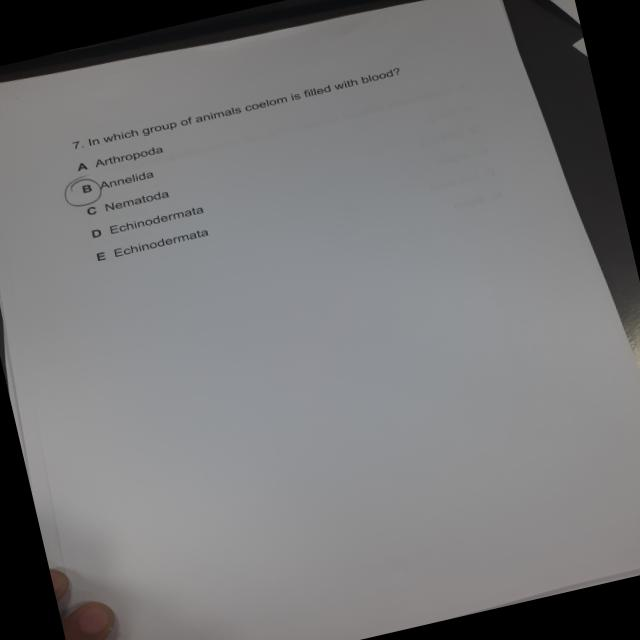B: (59, 173, 109, 212)
